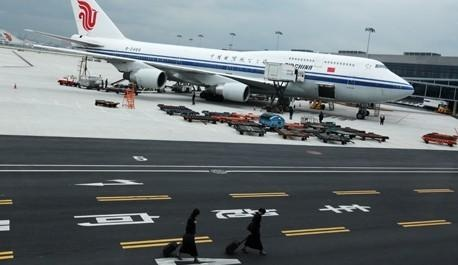airplane: (22, 1, 422, 108)
